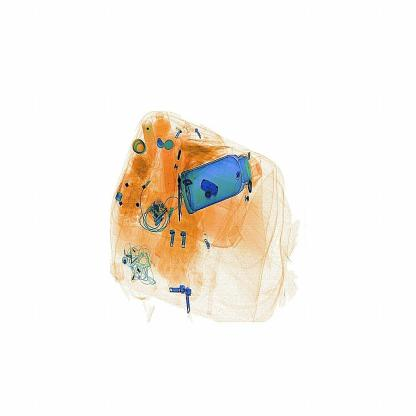knife: (173, 165, 192, 231)
